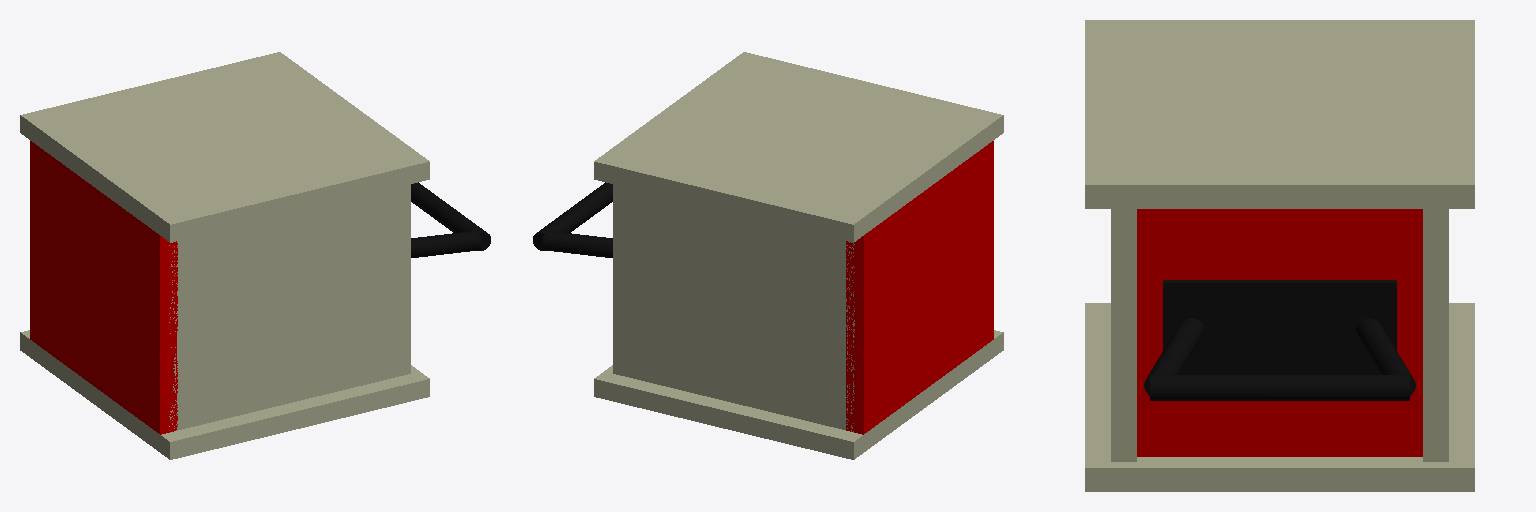
robot.urdf — mk_station:
<!-- 
  H, W, L = 11.3, 15, 15 cm
  indent = 0.8cm
  handle W, L = 6cm, 10cm
  thickness of the border = cm
-->
<robot name="mk_station" version="1.0">
  <!-- Retained Joint for the Single Drawer -->
  <joint name="small_drawer_joint" type="prismatic">
    <limit lower="0" upper="0.12" effort="0.00000" velocity="0.00000"/>
    <origin rpy="0.00000 0.00000 0.00000" xyz="0.00000 0.00000 0.0600"/>
    <parent link="body"/>
    <child link="small_drawer"/>
    <axis xyz="1.00000 0.00000 0.00000"/>
  </joint>

  <!-- Retained Link for the Single Drawer -->
  <link name="small_drawer">
    <!-- DRAWER HANDLE TODO(YL), add a collision body and get accurate drawer dimension-->
    <visual name="handle0">
      <origin rpy="0.00000 0.00000 0.00000" xyz="0.065 0.00000 0.0"/>
      <material name="black"/>
      <geometry>
        <box size="0.005000 0.09000 0.0400"/>
      </geometry>
    </visual>
    <visual name="handle1">
      <origin rpy="1.570000 0.00000 0.00000" xyz="0.12 0.00000 0.0"/>
      <material name="black"/>
      <geometry>
        <cylinder length="0.100" radius="0.005000"/>
      </geometry>
    </visual>
    <visual name="side_handle_left">
      <origin rpy="0 1.57 -0.25" xyz="0.09 -0.040 0.0"/> <!-- Adjust the xyz position accordingly -->
      <material name="black"/>
      <geometry>
        <cylinder length="0.0600" radius="0.005000"/>
      </geometry>
    </visual>   
    <visual name="side_handle_right">
      <origin rpy="0 1.57 0.25" xyz="0.09 0.040 0.0"/> <!-- Adjust the xyz position accordingly -->
      <material name="black"/>
      <geometry>
        <cylinder length="0.0600" radius="0.005000"/>
      </geometry>
    </visual>


    <collision name="handle0_collision">
      <origin rpy="0.00000 0.00000 0.00000" xyz="0.065 0.00000 0.0"/>
      <material name="black"/>
      <geometry>
        <box size="0.005000 0.09000 0.0400"/>
      </geometry>
    </collision>
    <collision name="handle1_collision">
      <origin rpy="1.570000 0.00000 0.00000" xyz="0.12 0.00000 0.0"/>
      <material name="black"/>
      <geometry>
        <cylinder length="0.100" radius="0.005000"/>
      </geometry>
    </collision>
    <collision name="side_handle_left_collision">
      <origin rpy="0 1.57 -0.25" xyz="0.09 -0.040 0.0"/> <!-- Adjust the xyz position accordingly -->
      <material name="black"/>
      <geometry>
        <cylinder length="0.0600" radius="0.005000"/>
      </geometry>
    </collision>   
    <collision name="side_handle_right_collision">
      <origin rpy="0 1.57 0.25" xyz="0.09 0.040 0.0"/> <!-- Adjust the xyz position accordingly -->
      <material name="black"/>
      <geometry>
        <cylinder length="0.0600" radius="0.005000"/>
      </geometry>
    </collision>

    <!-- DRAWER HANDLE -->
    <collision name="drawer_front_collision">
      <origin rpy="0.00000 0.00000 0.00000" xyz="0.06 0.00000 0.0"/>
      <geometry>
        <box size="0.01000 0.11 0.11"/>
      </geometry>
    </collision>
    <visual name="drawer_front">
      <origin rpy="0.00000 0.00000 0.00000" xyz="0.06 0.00000 0.0"/>
      <material name="red_wooden"/>
      <geometry>
        <box size="0.01000 0.11 0.11"/>
      </geometry>
    </visual>
    <collision name="drawer_back_collision">
      <origin rpy="0.00000 0.00000 0.00000" xyz="-0.05 0.00000 0.0"/>
      <geometry>
        <box size="0.01000 0.11 0.11"/>
      </geometry>
    </collision>
    <visual name="drawer_back">
      <origin rpy="0.00000 0.00000 0.00000" xyz="-0.05 0.00000 0.0"/>
      <material name="white_wooden"/>
      <geometry>
        <box size="0.01000 0.11 0.11"/>
      </geometry>
    </visual>
    <collision name="drawer_interior_bottom_collision">
      <origin rpy="0.00000 0.00000 0.00000" xyz="0.00000 0.00000 -0.05"/>
      <geometry>
        <box size="0.11 0.11 0.01000"/>
      </geometry>
    </collision>
    <visual name="drawer_interior_bottom">
      <origin rpy="0.00000 0.00000 0.00000" xyz="0.00000 0.00000 -0.05"/>
      <material name="white_wooden"/>
      <geometry>
        <box size="0.11 0.11 0.01000"/>
      </geometry>
    </visual>
    <collision name="drawer_interior_front_collision">
      <origin rpy="0.00000 0.00000 0.00000" xyz="0.05 0.00000 0.0"/>
      <geometry>
        <box size="0.01000 0.11 0.11"/>
      </geometry>
    </collision>
    <visual name="drawer_interior_front">
      <origin rpy="0.00000 0.00000 0.00000" xyz="0.05 0.00000 0.0"/>
      <material name="white_wooden"/>
      <geometry>
        <box size="0.01000 0.11 0.11"/>
      </geometry>
    </visual>
    <collision name="drawer_left_collision">
      <origin rpy="0.00000 0.00000 0.00000" xyz="0.00000 -0.05 0.0"/>
      <geometry>
        <box size="0.11 0.01000 0.11"/>
      </geometry>
    </collision>
    <visual name="drawer_left">
      <origin rpy="0.00000 0.00000 0.00000" xyz="0.00000 -0.05 0.0"/>
      <material name="white_wooden"/>
      <geometry>
        <box size="0.11 0.01000 0.11"/>
      </geometry>
    </visual>
    <collision name="drawer_right_collision">
      <origin rpy="0.00000 0.00000 0.00000" xyz="0.00000 0.05 0.0"/>
      <geometry>
        <box size="0.11 0.01000 0.11"/>
      </geometry>
    </collision>
    <visual name="drawer_right">
      <origin rpy="0.00000 0.00000 0.00000" xyz="0.00000 0.05 0.0"/>
      <material name="white_wooden"/>
      <geometry>
        <box size="0.11 0.01000 0.11"/>
      </geometry>
    </visual>
  </link>

  <!-- Fix drawer frame to the body -->
  <link name="body">
    <collision name="body_back_collision">
      <origin rpy="0.00000 0.00000 0.00000" xyz="-0.07 0.00000 0.06"/>
      <geometry>
        <box size="0.01000 0.13 0.11"/>
      </geometry>
    </collision>
    <visual name="body_back">
      <origin rpy="0.00000 0.00000 0.00000" xyz="-0.07 0.00000 0.06"/>
      <material name="red_wooden"/>
      <geometry>
        <box size="0.01000 0.13 0.11"/>
      </geometry>
    </visual>
    <collision name="body_left_collision">
      <origin rpy="0.00000 0.00000 0.00000" xyz="0.00000 -0.06 0.06"/>
      <geometry>
        <box size="0.14 0.01000 0.11"/>
      </geometry>
    </collision>
    <visual name="body_left">
      <origin rpy="0.00000 0.00000 0.00000" xyz="0.00000 -0.06 0.06"/>
      <material name="white_wooden"/>
      <geometry>
        <box size="0.14 0.01000 0.11"/>
      </geometry>
    </visual>
    <collision name="body_right_collision">
      <origin rpy="0.00000 0.00000 0.00000" xyz="0.00000 0.06 0.06"/>
      <geometry>
        <box size="0.14 0.01000 0.11"/>
      </geometry>
    </collision>
    <visual name="body_right">
      <origin rpy="0.00000 0.00000 0.00000" xyz="0.00000 0.06 0.06"/>
      <material name="white_wooden"/>
      <geometry>
        <box size="0.14 0.01000 0.11"/>
      </geometry>
    </visual>
    <collision name="tabletop_collision">
      <origin rpy="0.00000 0.00000 0.00000" xyz="0.00000 0.00000 0.12"/>
      <geometry>
        <box size="0.15 0.15 0.01000"/>
      </geometry>
    </collision>
    <visual name="tabletop">
      <origin rpy="0.00000 0.00000 0.00000" xyz="0.00000 0.00000 0.12"/>
      <material name="white_wooden"/>
      <geometry>
        <box size="0.15 0.15 0.01000"/>
      </geometry>
    </visual>
    <collision name="tablebottom_collision">
      <origin rpy="0.00000 0.00000 0.00000" xyz="0.00000 0.00000 0.0"/>
      <geometry>
        <box size="0.15 0.15 0.01000"/>
      </geometry>
    </collision>
    <visual name="tablebottom">
      <origin rpy="0.00000 0.00000 0.00000" xyz="0.00000 0.00000 0.00"/>
      <material name="white_wooden"/>
      <geometry>
        <box size="0.15 0.15 0.01000"/>
      </geometry>
    </visual>

  </link>

  <!-- Removed Middle and Bottom Drawers -->

  <!-- Materials -->
  <material name="gray_wooden">
    <color rgba="0.38824 0.32157 0.27451 .40000"/>
  </material>
  <material name="red_wooden">
    <color rgba="0.80000 0.00000 0.00000 1.00000"/>
  </material>
  <material name="stone">
    <color rgba="0.63529 0.52941 0.41176 1.00000"/>
  </material>
  <material name="white_wooden">
    <color rgba="0.70000 0.70000 0.60000 1.00000"/>
  </material>
  <material name="black">
    <color rgba="0.10000 0.10000 0.10000 1.00000"/>
  </material>
</robot>

--- Facts derived from the render (not from the file) ---
The picture shows the robot from 3 angles, left to right: view 1: azimuth 30°, elevation 25°; view 2: azimuth 150°, elevation 25°; view 3: azimuth 270°, elevation 25°; orthographic projection.
Model mk_station with 2 links and 1 joints (1 prismatic), rooted at body, posed every joint at zero.
Visible links, largest first — view 1: body, small_drawer; view 2: body, small_drawer; view 3: body, small_drawer.
Boxes of the visible links, x1,y1,x2,y2 form: body: (20, 52, 429, 459); small_drawer: (411, 182, 490, 257); body: (594, 52, 1003, 459); small_drawer: (533, 182, 612, 257); body: (1085, 20, 1474, 491); small_drawer: (1137, 209, 1422, 456).
Bounding box of the posed robot: 0.2 × 0.15 × 0.13 m (x, y, z).
Geometry: primitives only (box / cylinder / sphere), no mesh files.